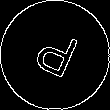P_SW: (28, 24, 82, 86)
